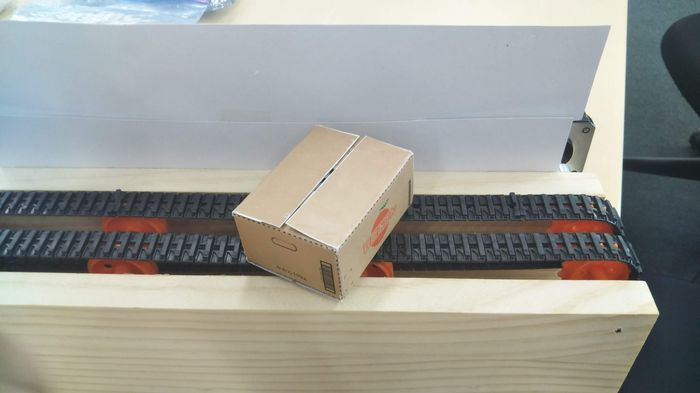box1: (228, 120, 418, 301)
